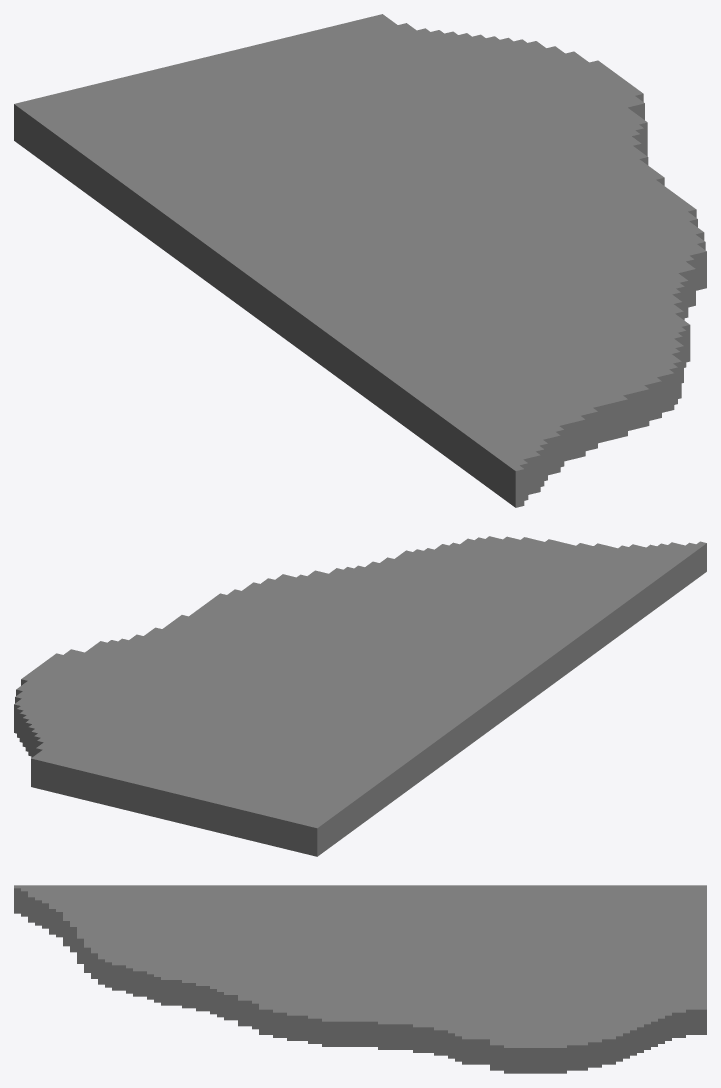
File: Main Island-17.obj
3 renders of one model, top to bottom at view 1: azimuth 30°, elevation 25°; view 2: azimuth 150°, elevation 25°; view 3: azimuth 270°, elevation 25°, orthographic. The views are drawn at different scales.
Visible parts, largest first — view 1: Main Island-17; view 2: Main Island-17; view 3: Main Island-17.
Part boxes in pixels (x1,y1,x2,y2): Main Island-17: (14, 14, 706, 507); Main Island-17: (14, 536, 706, 856); Main Island-17: (14, 885, 706, 1073).
Bounding box in the file's own units: 55 × 4 × 99.
1 material, 1 textured.
